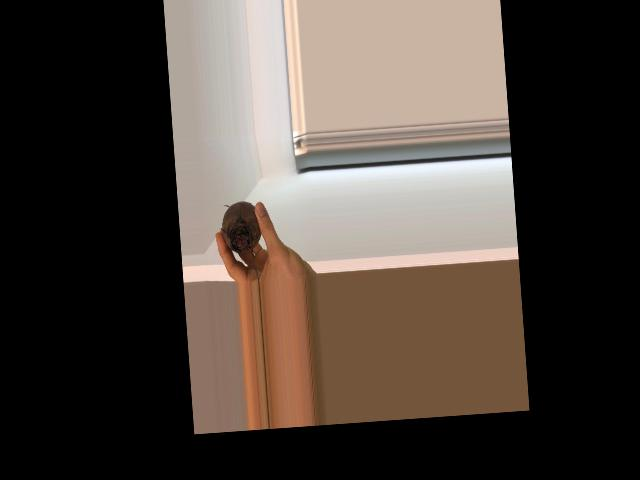beet: (218, 199, 265, 284)
